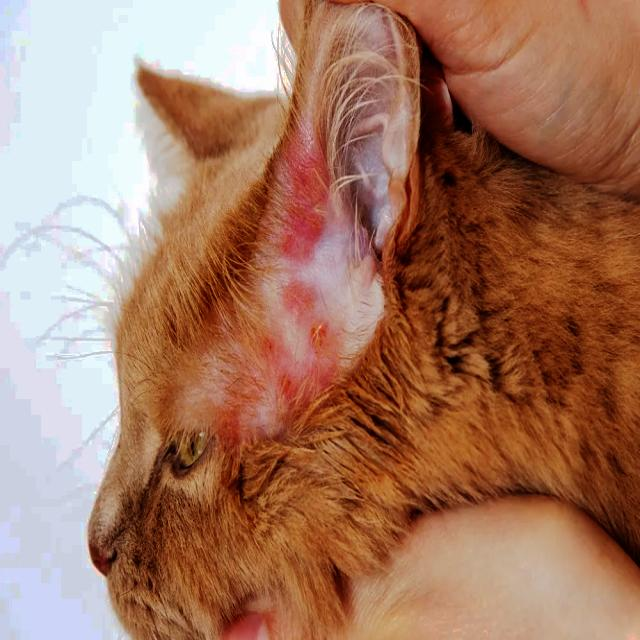ringworm: (213, 181, 333, 438)
